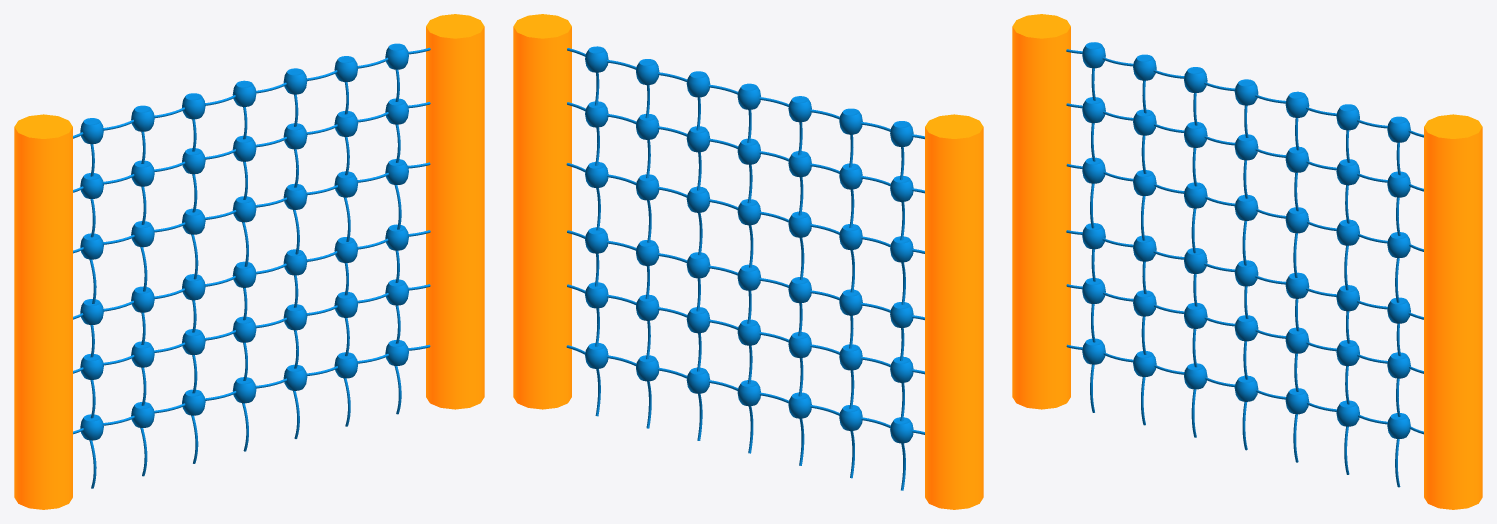
The model's file is Blocker.fbx.
The picture shows the model from 3 angles, left to right: view 1: azimuth 30°, elevation 25°; view 2: azimuth 150°, elevation 25°; view 3: azimuth 330°, elevation 25°; orthographic projection.
Parts seen in each view (by area): view 1: block_0, column2, column1; view 2: block_0, column2, column1; view 3: block_0, column1, column2.
Part boxes in pixels (bbox=[...]): block_0: bbox=[73, 43, 430, 488]; column2: bbox=[14, 114, 72, 509]; column1: bbox=[426, 14, 484, 409]; block_0: bbox=[566, 46, 924, 490]; column2: bbox=[925, 114, 983, 509]; column1: bbox=[513, 14, 571, 409]; block_0: bbox=[1066, 42, 1423, 487]; column1: bbox=[1424, 114, 1482, 509]; column2: bbox=[1012, 14, 1070, 409].
Bounding box in the file's own units: 52.91 × 41.02 × 5.8.
